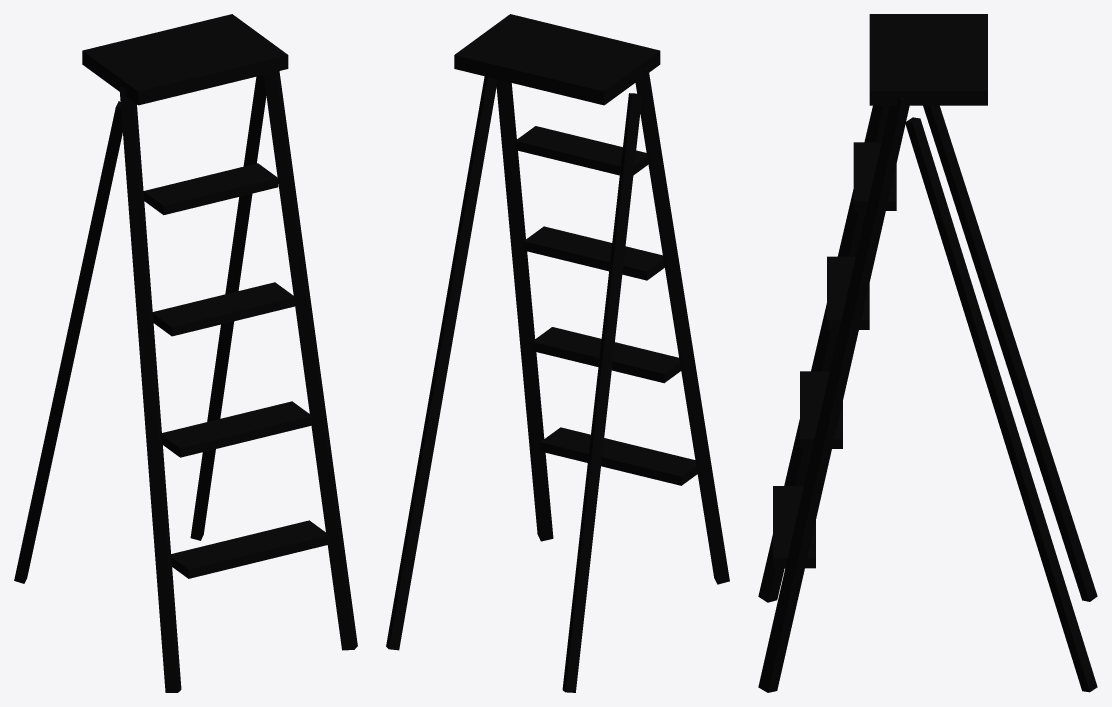
Rendered from SM_step_ladder_wood.fbx.
3 views of the same model, side by side, from view 1: azimuth 30°, elevation 25°; view 2: azimuth 150°, elevation 25°; view 3: azimuth 270°, elevation 25° (orthographic). The views are drawn at different scales.
Parts seen in each view (by area): view 1: step_ladder_wood; view 2: step_ladder_wood; view 3: step_ladder_wood.
Part boxes in pixels (x1,y1,x2,y2): step_ladder_wood: (14, 14, 357, 692); step_ladder_wood: (386, 14, 729, 692); step_ladder_wood: (758, 14, 1097, 692).
Size of the model in its own units: 0.436 by 1.22 by 0.632.
